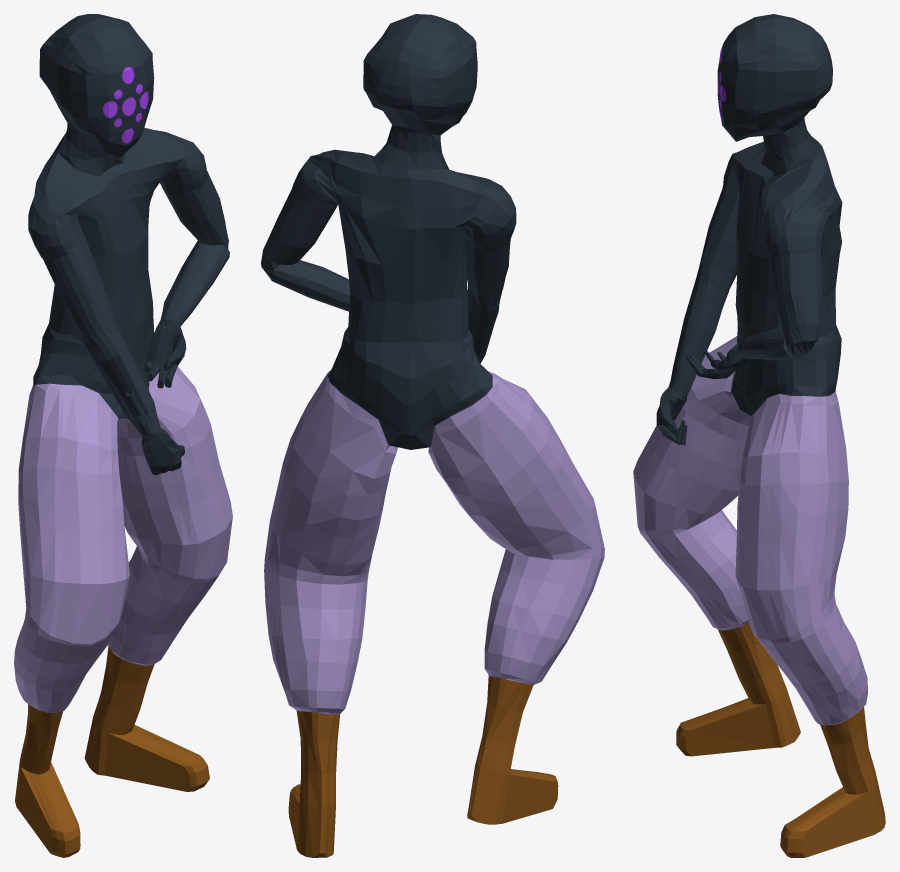
The model's file is Oracle_WR_000011.obj.
3 renders of one model, left to right at view 1: azimuth 30°, elevation 25°; view 2: azimuth 150°, elevation 25°; view 3: azimuth 270°, elevation 25°, orthographic. The views are drawn at different scales.
Visible parts, largest first — view 1: Cube; view 2: Cube; view 3: Cube.
Boxes of the visible parts, x1,y1,x2,y2 form: Cube: (14, 14, 232, 857); Cube: (261, 14, 604, 857); Cube: (633, 14, 885, 857).
Bounding box in the file's own units: 1.31 × 3.81 × 1.11.
